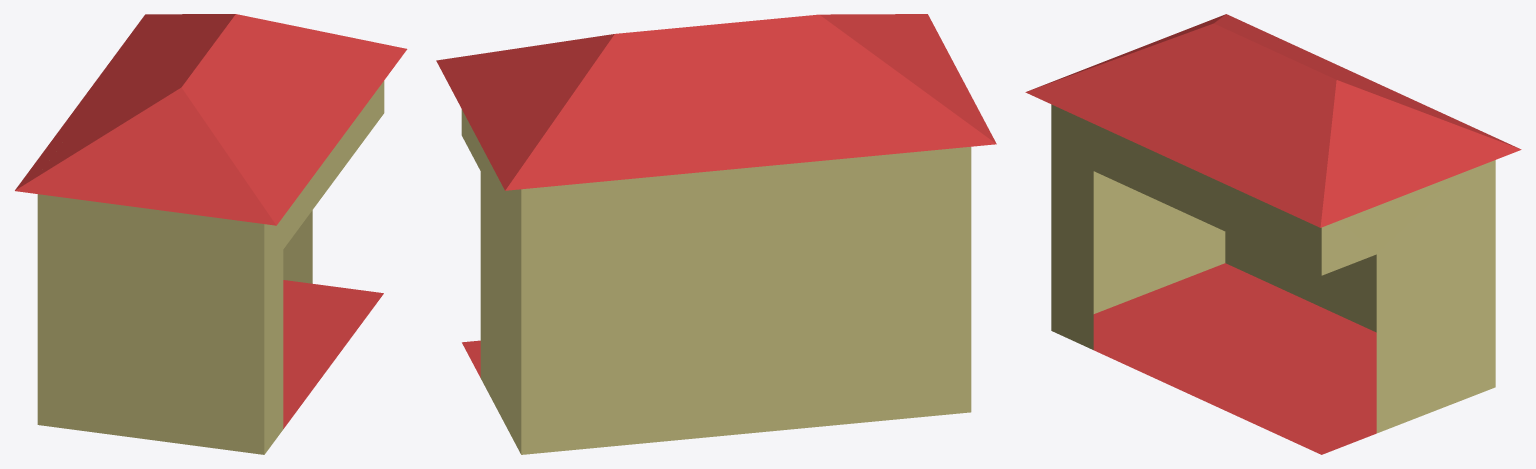
The picture shows the model from 3 angles, left to right: view 1: azimuth 30°, elevation 25°; view 2: azimuth 150°, elevation 25°; view 3: azimuth 270°, elevation 25°; orthographic projection. The views are drawn at different scales.
Parts seen in each view (by area): view 1: group_5, group_3, group_6, group_4; view 2: group_5, group_3, group_4; view 3: group_5, group_3, group_6, group_4.
Part boxes in pixels (x1=…): group_5: x1=37, y1=81, x2=384, y2=454; group_3: x1=18, y1=14, x2=406, y2=225; group_6: x1=283, y1=280, x2=383, y2=428; group_4: x1=15, y1=15, x2=406, y2=225; group_5: x1=461, y1=109, x2=971, y2=454; group_3: x1=462, y1=14, x2=994, y2=190; group_4: x1=436, y1=14, x2=996, y2=190; group_5: x1=1051, y1=104, x2=1495, y2=433; group_3: x1=1025, y1=14, x2=1521, y2=227; group_6: x1=1093, y1=263, x2=1376, y2=454; group_4: x1=1033, y1=14, x2=1520, y2=227.
Bounding box in the file's own units: 20.51 × 20.12 × 13.71.
